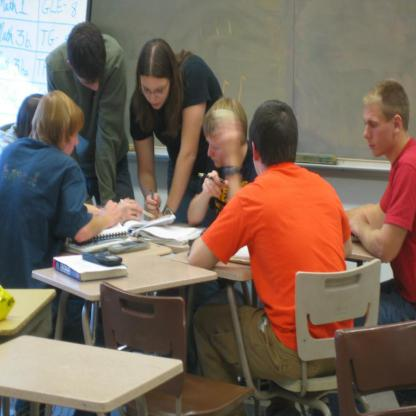face: (366, 102, 393, 158), (203, 127, 231, 168), (143, 72, 169, 111)
